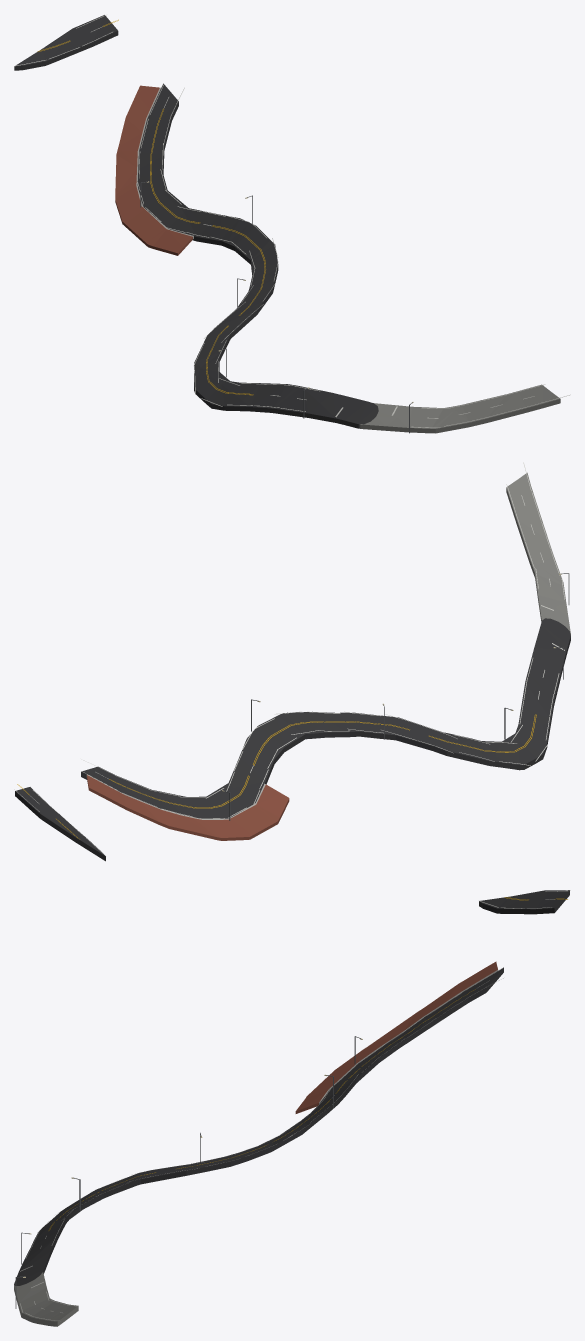
The picture shows the model from 3 angles, top to bottom: view 1: azimuth 30°, elevation 25°; view 2: azimuth 150°, elevation 25°; view 3: azimuth 330°, elevation 25°; orthographic projection. The views are drawn at different scales.
Bounding box in the file's own units: 54.18 × 36.83 × 223.
